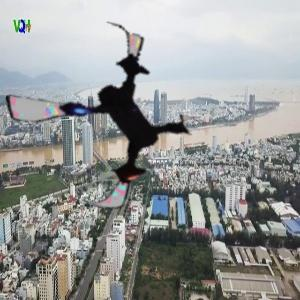drone: (5, 20, 202, 217)
